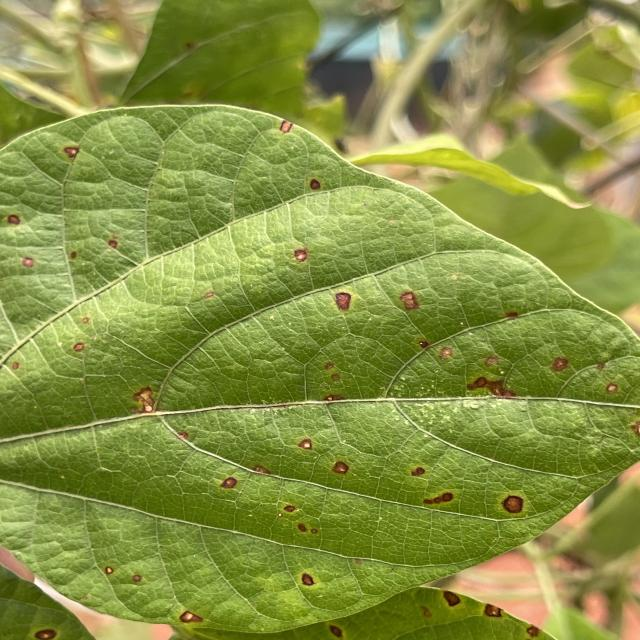Dolicos bean_cercospora leaf spot: (0, 105, 640, 635)
